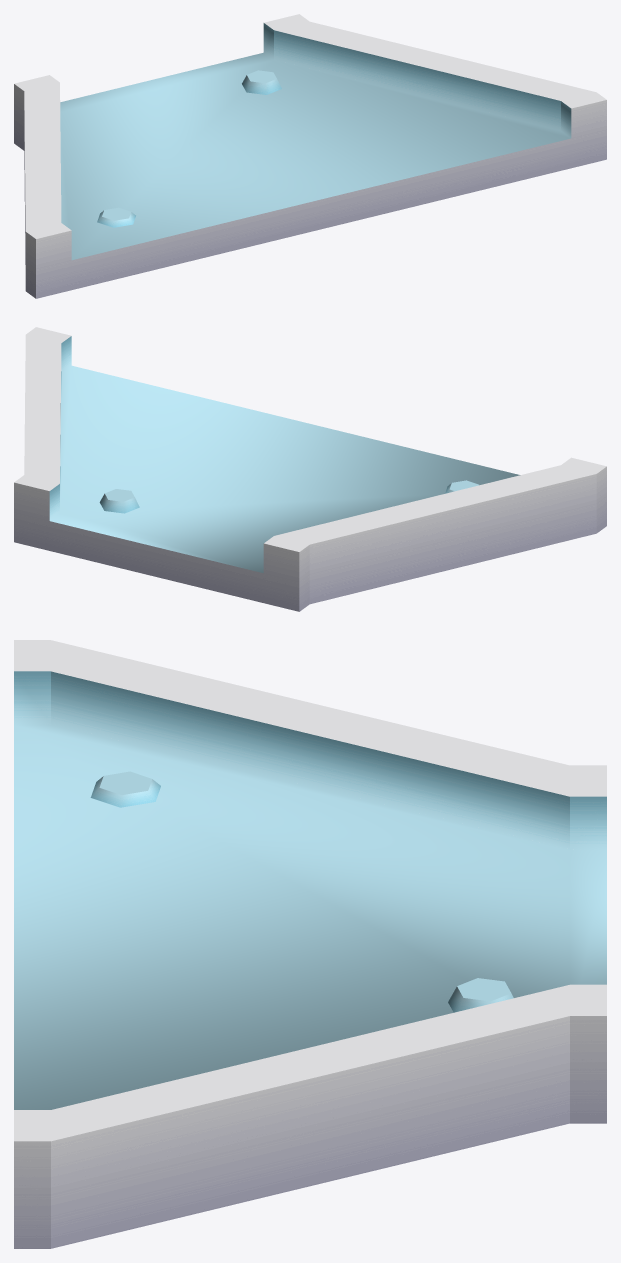
File: tower-defense-kit--snow-tile-wide-transition.glb
The picture shows the model from 3 angles, top to bottom: view 1: azimuth 30°, elevation 25°; view 2: azimuth 150°, elevation 25°; view 3: azimuth 270°, elevation 25°; orthographic projection. The views are drawn at different scales.
Visible parts, largest first — view 1: snow-tile-wide-transition; view 2: snow-tile-wide-transition; view 3: snow-tile-wide-transition.
Part boxes in pixels (x1,y1,x2,y2): snow-tile-wide-transition: [14, 14, 606, 298]; snow-tile-wide-transition: [14, 327, 606, 611]; snow-tile-wide-transition: [14, 640, 606, 1248].
Bounding box in the file's own units: 2 × 0.2 × 1.
1 material, 1 textured.
